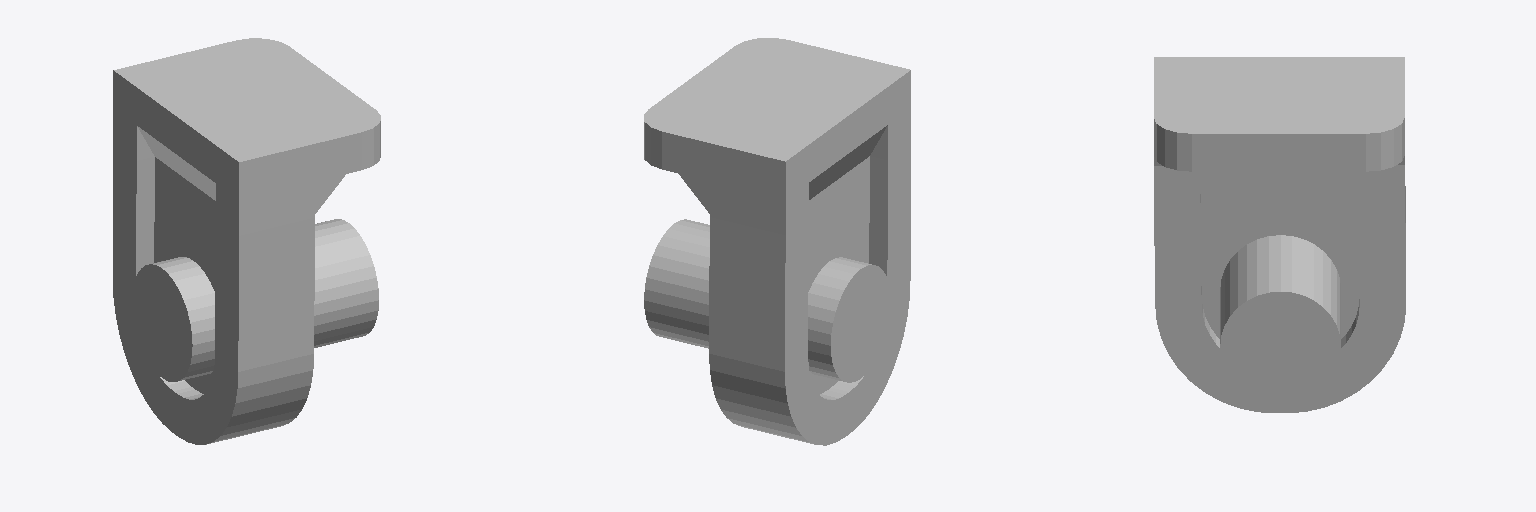
Rendered from Wrist.obj.
3 renders of one model, left to right at view 1: azimuth 30°, elevation 25°; view 2: azimuth 150°, elevation 25°; view 3: azimuth 270°, elevation 25°, orthographic.
Parts seen in each view (by area): view 1: Wrist_Cylinder.008; view 2: Wrist_Cylinder.008; view 3: Wrist_Cylinder.008.
Boxes of the visible parts, x1,y1,x2,y2 form: Wrist_Cylinder.008: [113, 38, 380, 444]; Wrist_Cylinder.008: [644, 38, 910, 445]; Wrist_Cylinder.008: [1154, 57, 1405, 412].
Size of the model in its own units: 1.11 by 1.81 by 1.3.